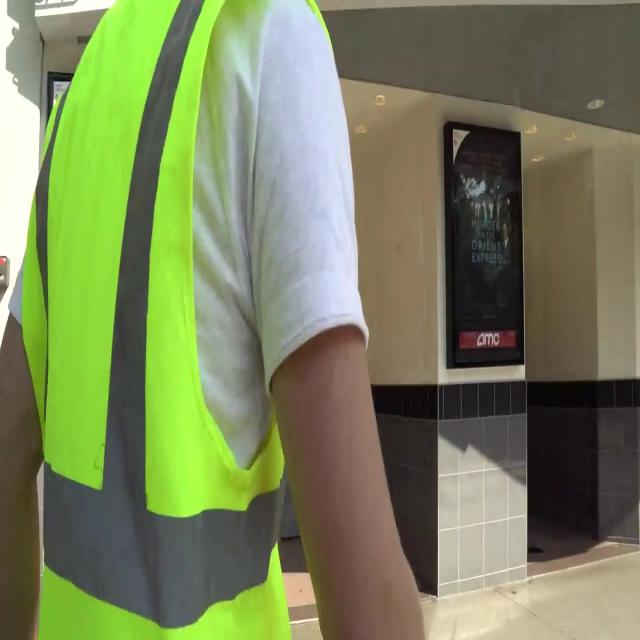Reflective-Jacket: (14, 0, 322, 638)
